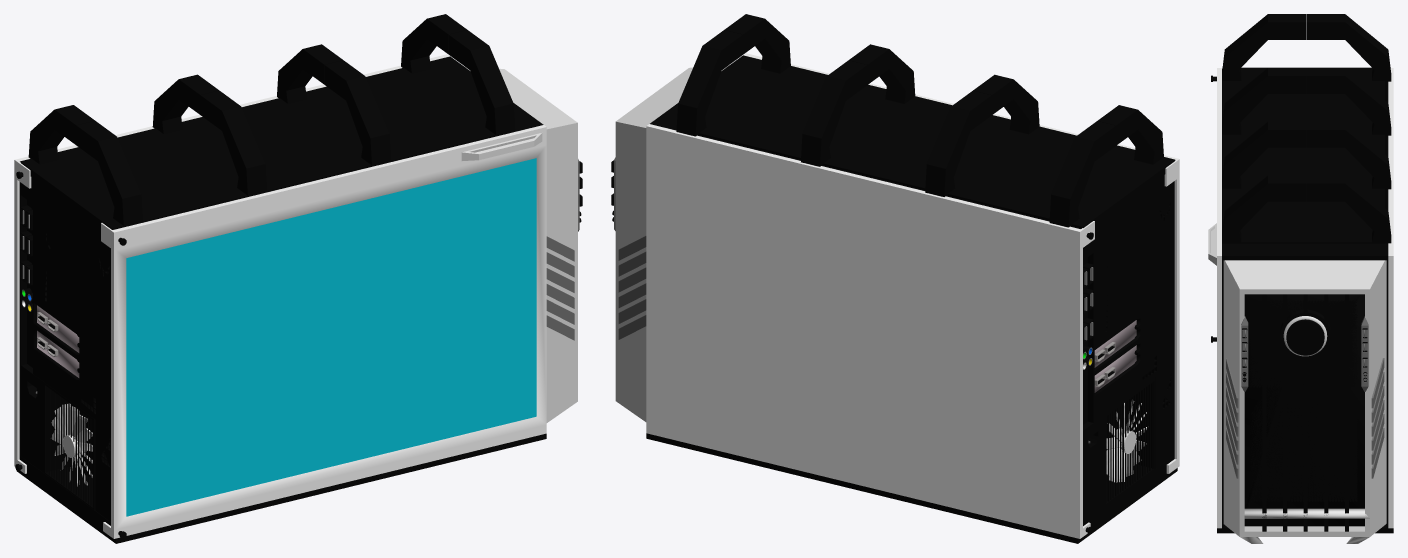
Rendered from case4.fbx.
3 views of the same model, side by side, from view 1: azimuth 30°, elevation 25°; view 2: azimuth 150°, elevation 25°; view 3: azimuth 270°, elevation 25° (orthographic). The views are drawn at different scales.
Parts seen in each view (by area): view 1: right, Plane, Plane.003, back, front, power, left, Cube, powerfan; view 2: left, Plane, Plane.003, back, front, power, right, Cube, powerfan; view 3: front, frontglass.001, Plane.003, Plane, right, left, Cube, powerbutton.
Part boxes in pixels (x1=…): right: x1=101, y1=125, x2=546, y2=538; Plane: x1=17, y1=56, x2=546, y2=543; Plane.003: x1=28, y1=14, x2=515, y2=226; back: x1=20, y1=200, x2=110, y2=521; front: x1=464, y1=66, x2=582, y2=422; power: x1=21, y1=364, x2=95, y2=509; left: x1=14, y1=54, x2=449, y2=473; Cube: x1=546, y1=236, x2=574, y2=340; powerfan: x1=51, y1=403, x2=92, y2=486; left: x1=646, y1=124, x2=1094, y2=538; Plane: x1=646, y1=55, x2=1177, y2=543; Plane.003: x1=676, y1=14, x2=1163, y2=227; back: x1=1083, y1=195, x2=1173, y2=468; front: x1=611, y1=65, x2=729, y2=421; power: x1=1083, y1=378, x2=1155, y2=521; right: x1=743, y1=53, x2=1179, y2=473; Cube: x1=618, y1=236, x2=646, y2=339; powerfan: x1=1106, y1=400, x2=1146, y2=482; front: x1=1223, y1=260, x2=1386, y2=543; frontglass.001: x1=1244, y1=294, x2=1364, y2=526; Plane.003: x1=1222, y1=14, x2=1391, y2=243; Plane: x1=1217, y1=67, x2=1393, y2=533; right: x1=1208, y1=68, x2=1222, y2=528; left: x1=1388, y1=68, x2=1393, y2=528; Cube: x1=1226, y1=358, x2=1384, y2=478; powerbutton: x1=1286, y1=319, x2=1324, y2=355.
Bounding box in the file's own units: 28.32 × 21.11 × 10.48.
